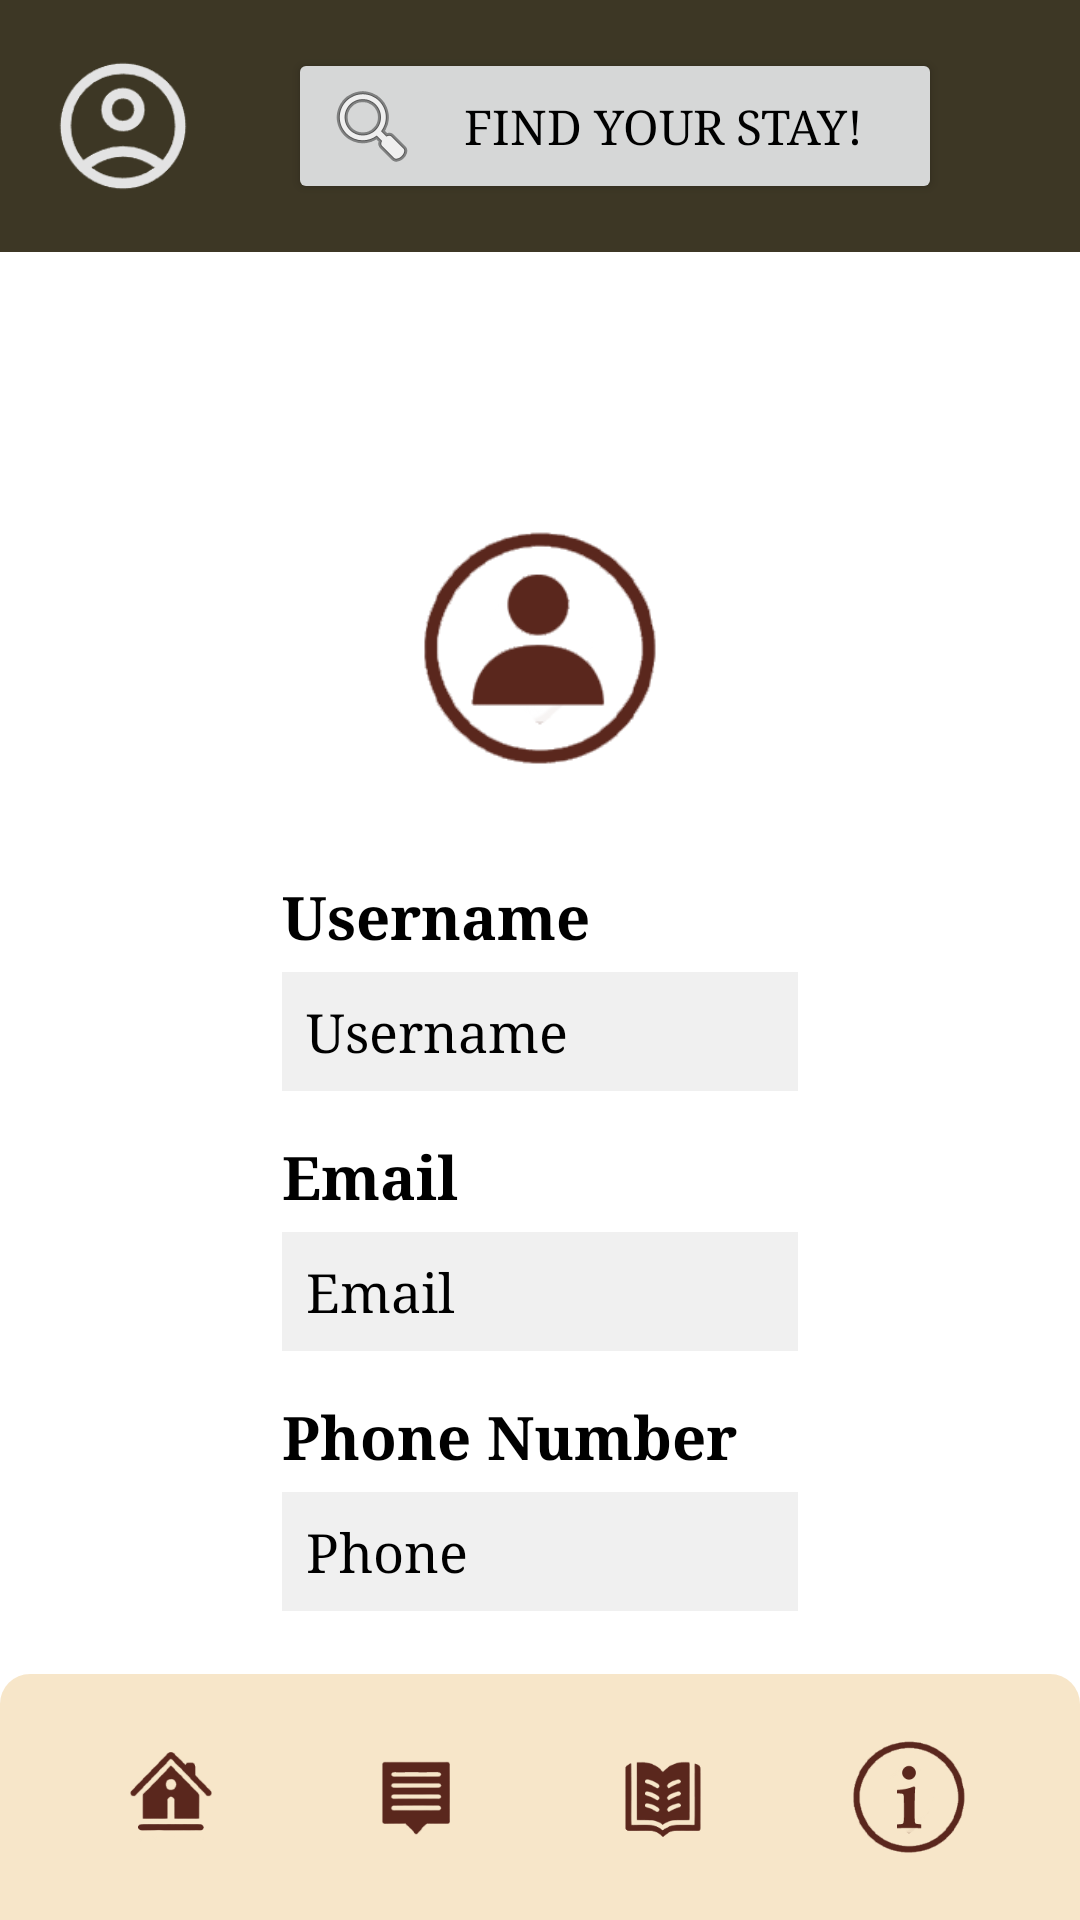

Point at icon controls on the screen. Image size 1080 × 1920, points as (x=x, y=y).
Home: (x=171, y=1791)
Information: (x=909, y=1797)
Profile: (x=123, y=126)
